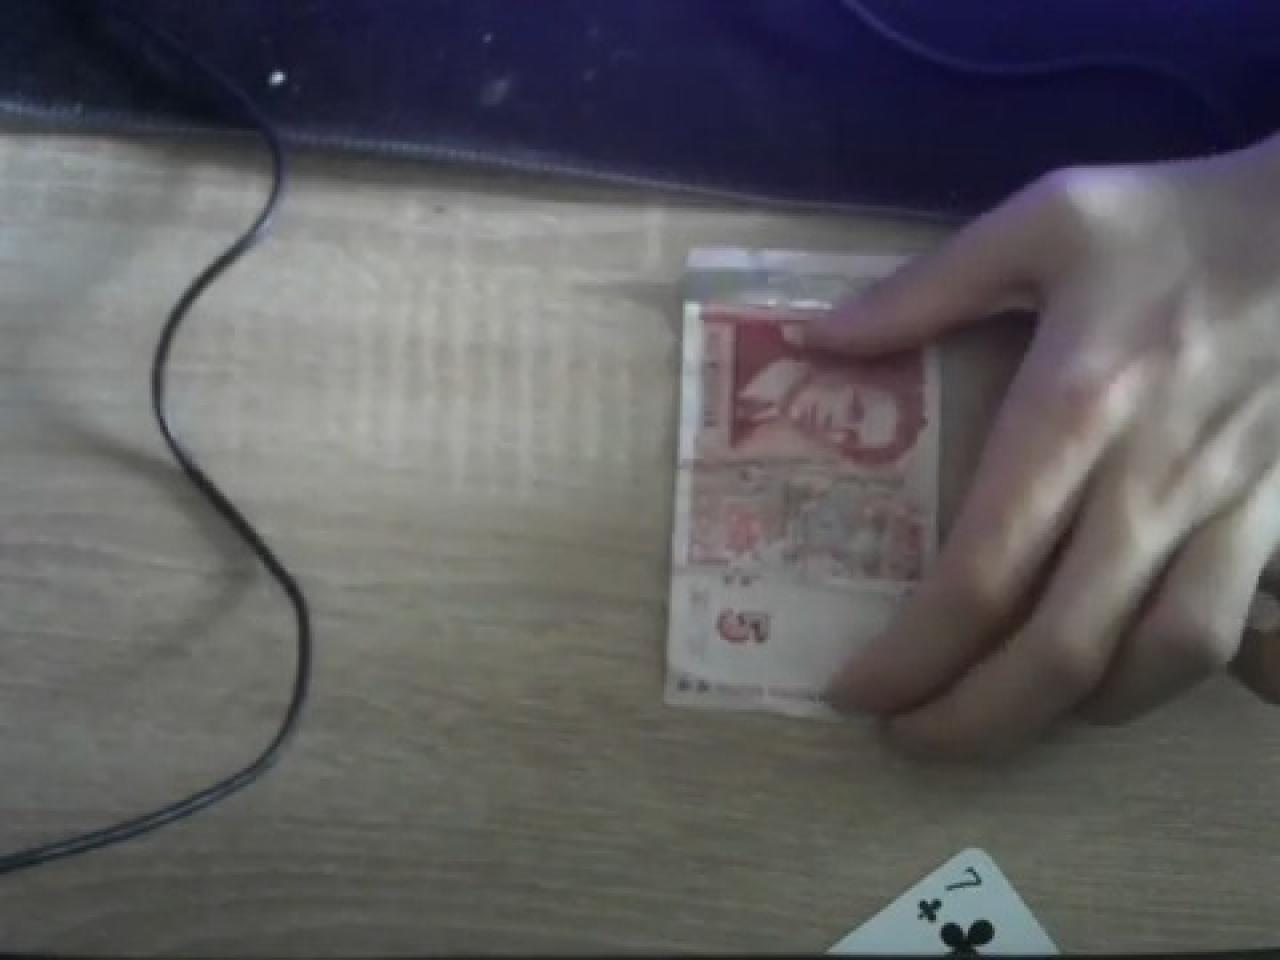5leva: (715, 320, 933, 496)
